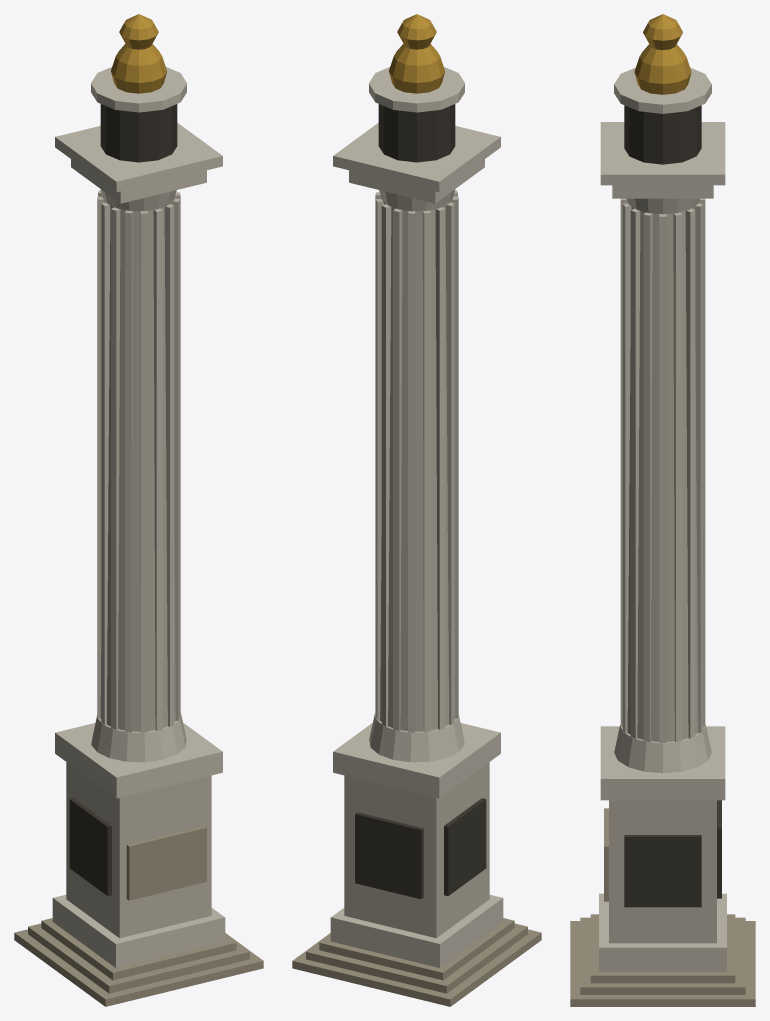
File: monument.glb
3 renders of one model, left to right at view 1: azimuth 30°, elevation 25°; view 2: azimuth 150°, elevation 25°; view 3: azimuth 270°, elevation 25°, orthographic.
Parts seen in each view (by area): view 1: monument; view 2: monument; view 3: monument.
Boxes of the visible parts, x1,y1,x2,y2 form: monument: (14, 14, 263, 1006); monument: (292, 14, 541, 1006); monument: (570, 14, 755, 1006).
Bounding box in the file's own units: 11 × 62.5 × 11.
